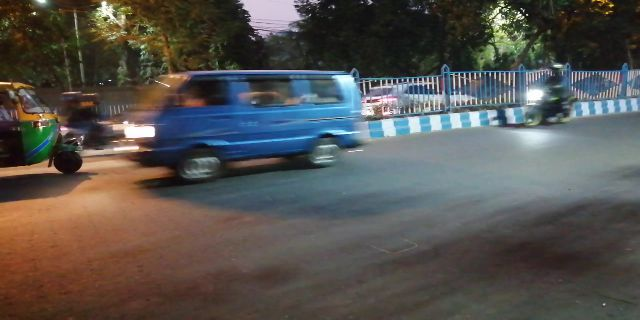Autorickshaw: (5, 77, 85, 175)
Motorbike: (516, 65, 580, 127)
Van: (138, 69, 366, 172)
